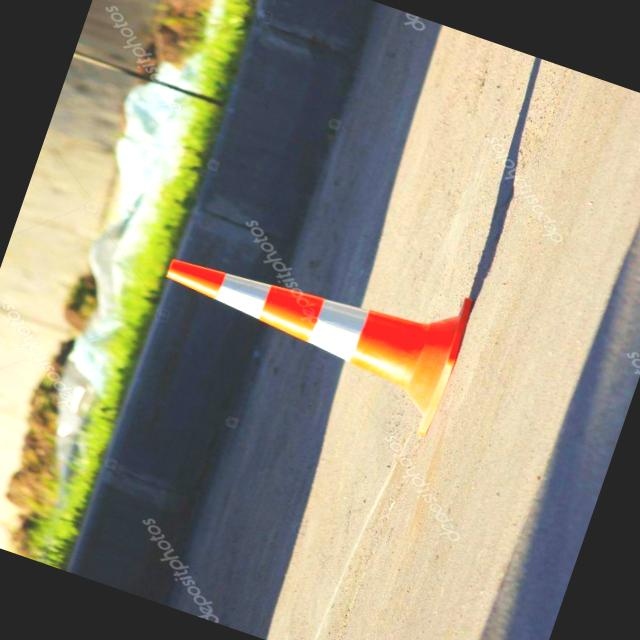cone: (142, 201, 481, 434)
